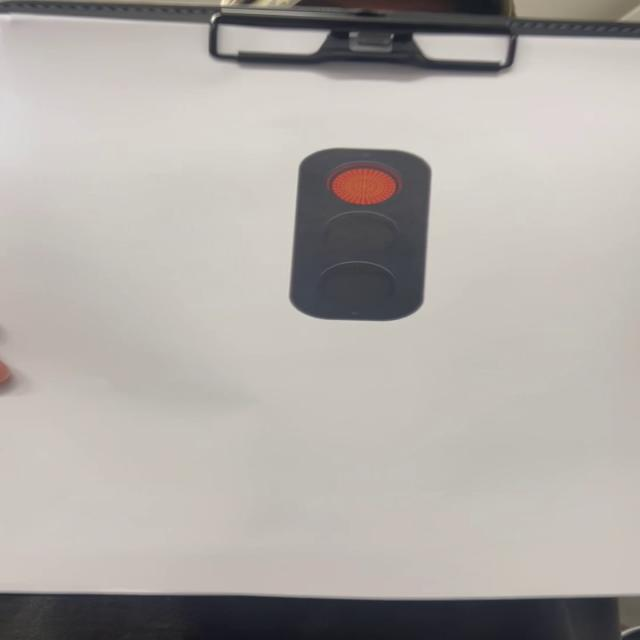red: (287, 150, 435, 321)
